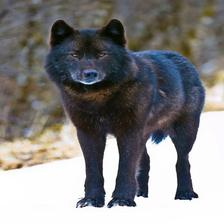WOLF: (46, 18, 199, 205)
